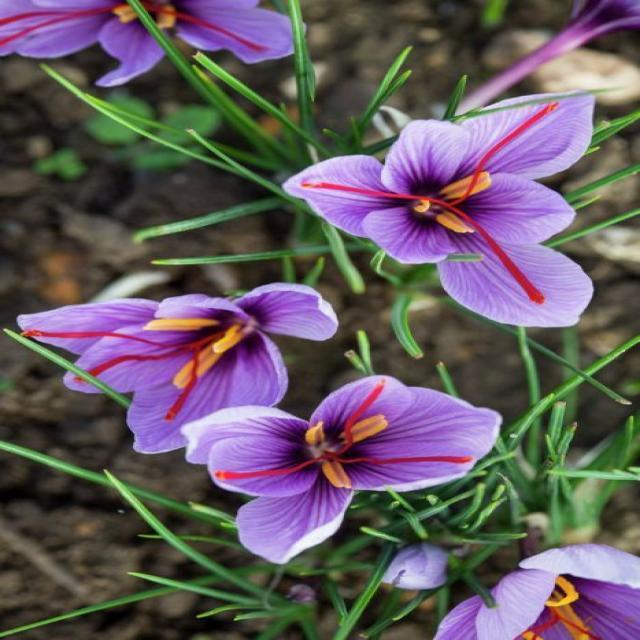Flower: (285, 96, 590, 326), (184, 375, 500, 563), (17, 283, 337, 452)
stigma: (455, 97, 566, 206), (463, 207, 548, 309), (158, 7, 272, 55), (20, 326, 229, 351), (296, 175, 447, 205), (0, 10, 104, 50), (209, 455, 325, 487), (85, 344, 191, 379), (338, 378, 388, 442), (0, 5, 109, 32), (338, 452, 475, 471), (164, 348, 196, 420), (520, 611, 563, 640)
